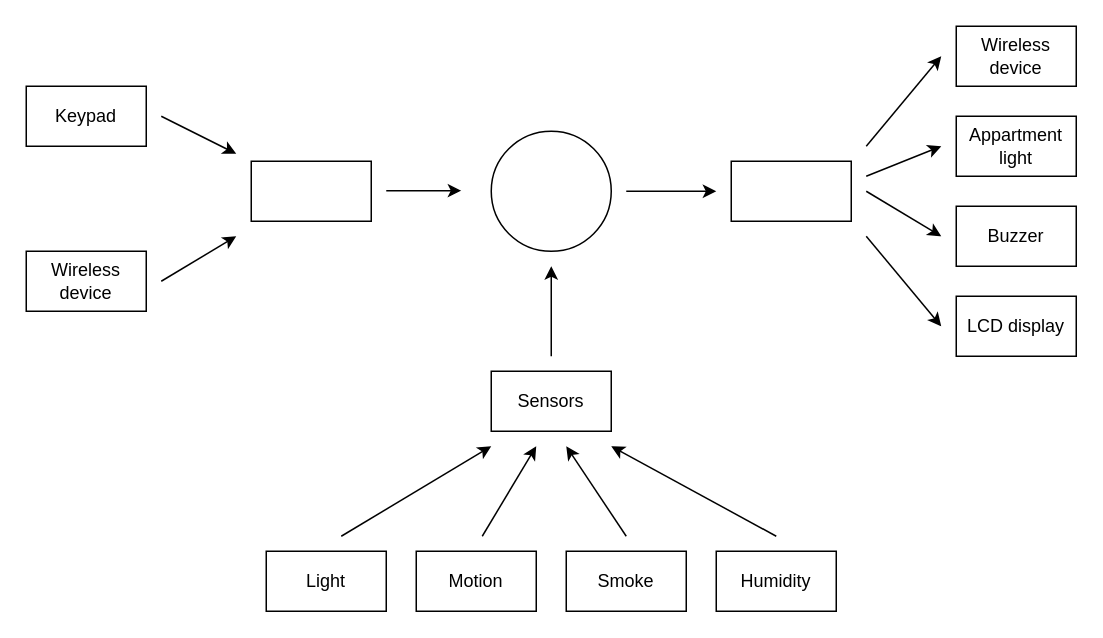
Some shapes in this 1103 by 638 pixel diagram are drawn without their labels. Each missing label, with the box of its shape:
Arduino: (490, 130, 611, 251)
Input: (250, 160, 371, 221)
Output: (730, 160, 851, 221)
